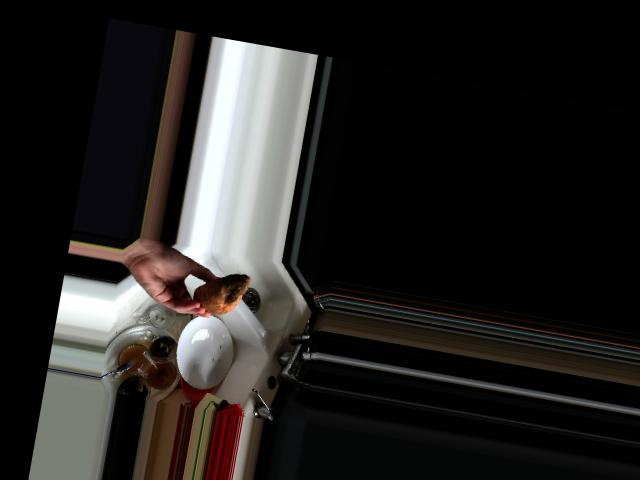sweet_potato: (191, 262, 252, 320)
